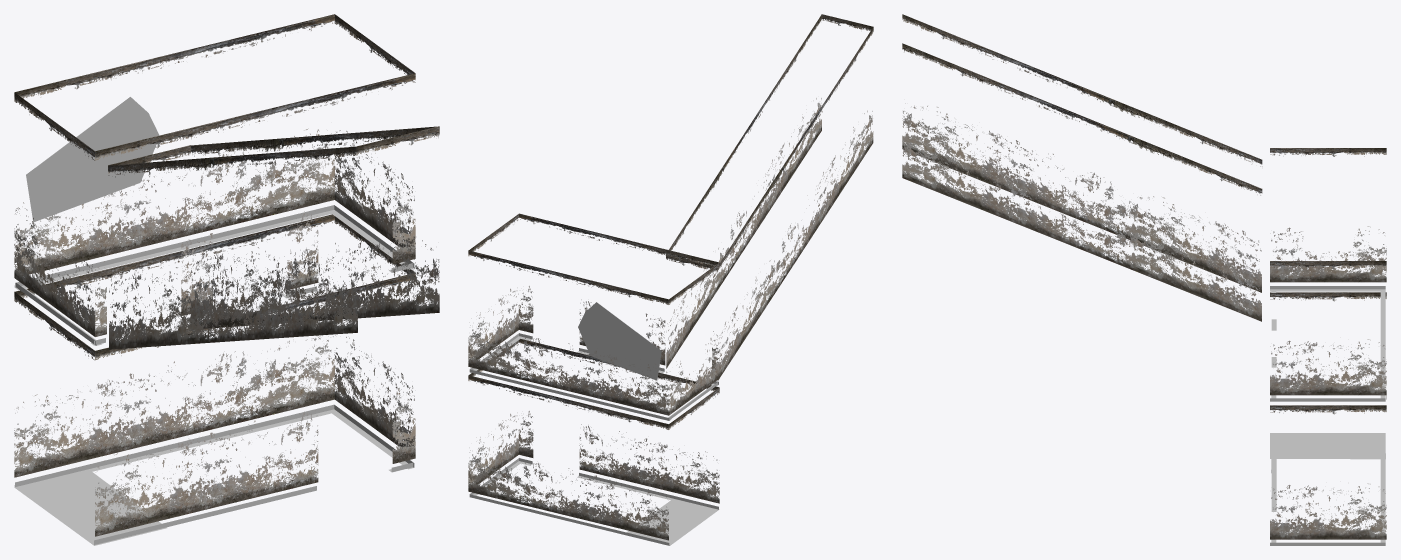
File: A2_Lobby_Decals.FBX
3 views of the same model, side by side, from view 1: azimuth 30°, elevation 25°; view 2: azimuth 150°, elevation 25°; view 3: azimuth 270°, elevation 25° (orthographic). The views are drawn at different scales.
Parts seen in each view (by area): view 1: A2_Lobby_Decals; view 2: A2_Lobby_Decals; view 3: A2_Lobby_Decals.
Boxes of the visible parts, x1,y1,x2,y2 form: A2_Lobby_Decals: (14, 14, 439, 545); A2_Lobby_Decals: (468, 14, 873, 545); A2_Lobby_Decals: (902, 14, 1386, 545).
Size of the model in its own units: 539 by 936 by 974.
